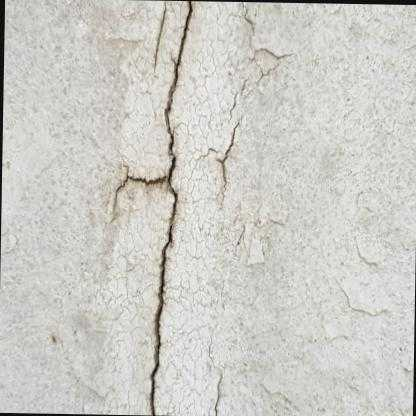crack: (148, 0, 192, 415), (110, 172, 164, 213)
